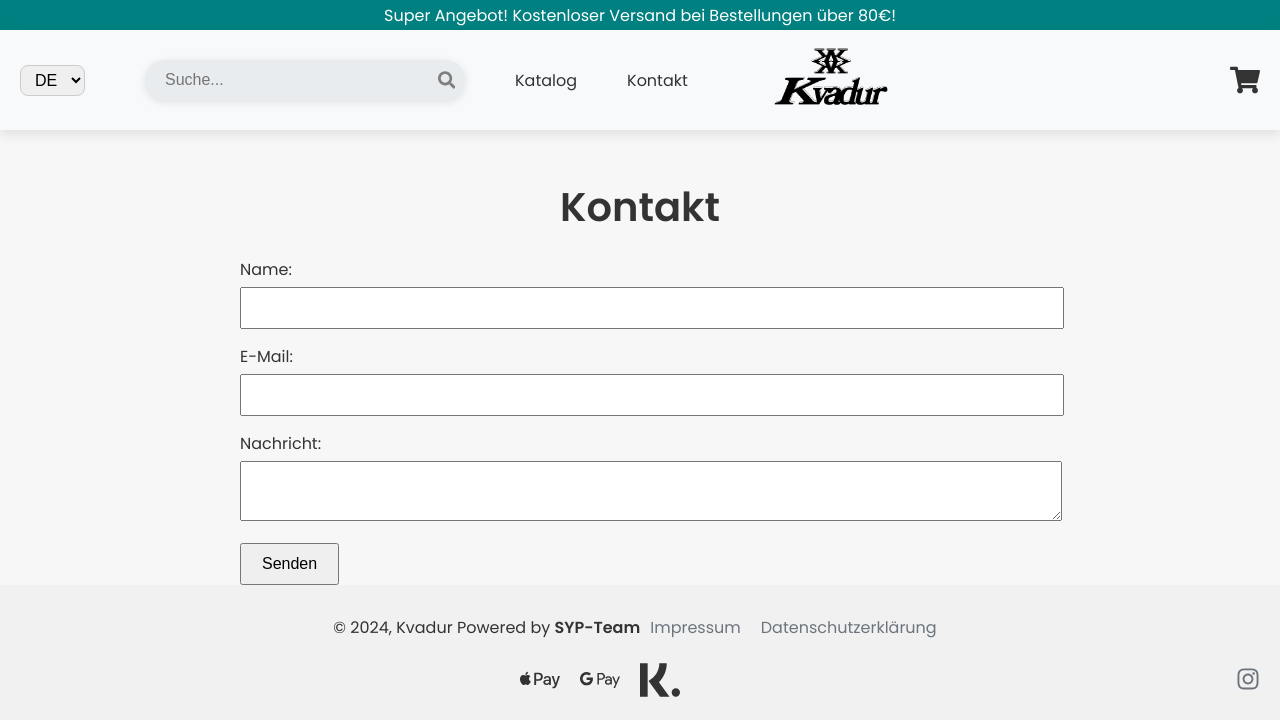
it: Kontaktformular - Validierung und Absenden › sollte das Kontaktformular validieren und erfolgreich absenden
This screenshot has width=1280, height=720.
# Versuch, das Formular ohne Eingaben abzusenden
Submit the form, box [240,257,1040,585]
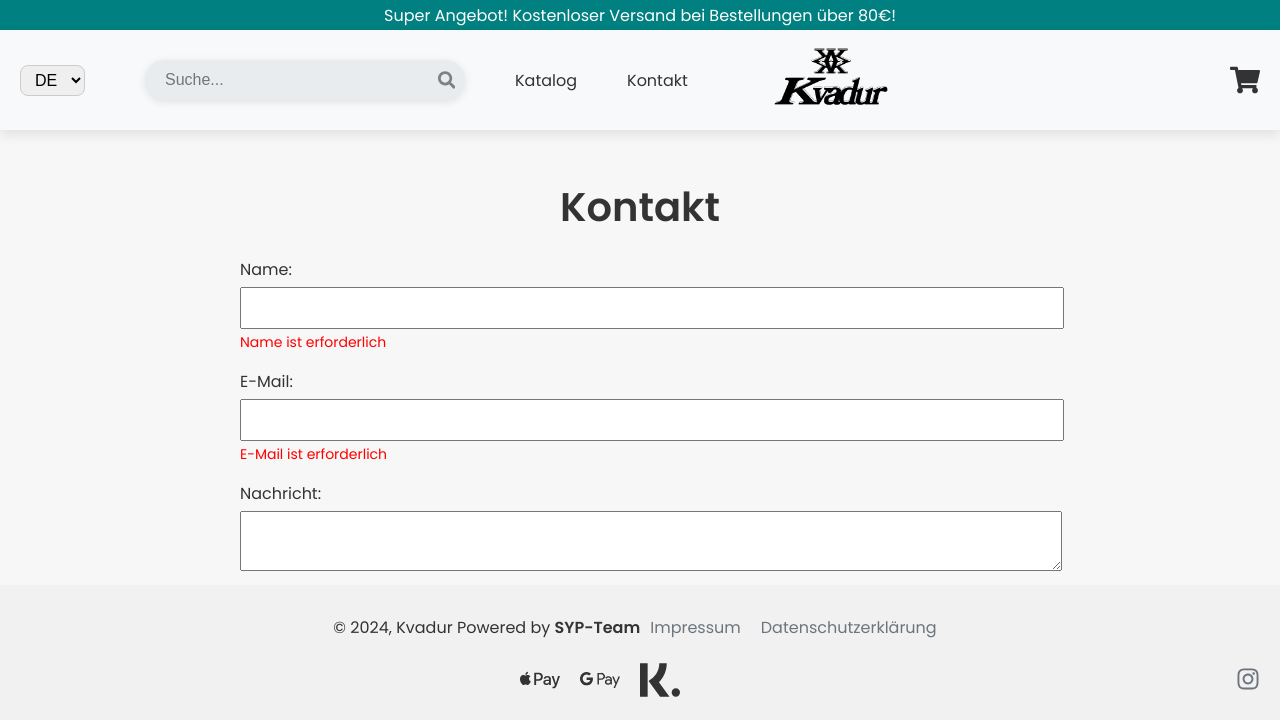
Expected: the number of elements with class "error-message" is at least 1
# Fülle das Formular korrekt aus
Type "Max Mustermann" into the field named "name". click: (652, 308)
box: [240,287,1064,329]
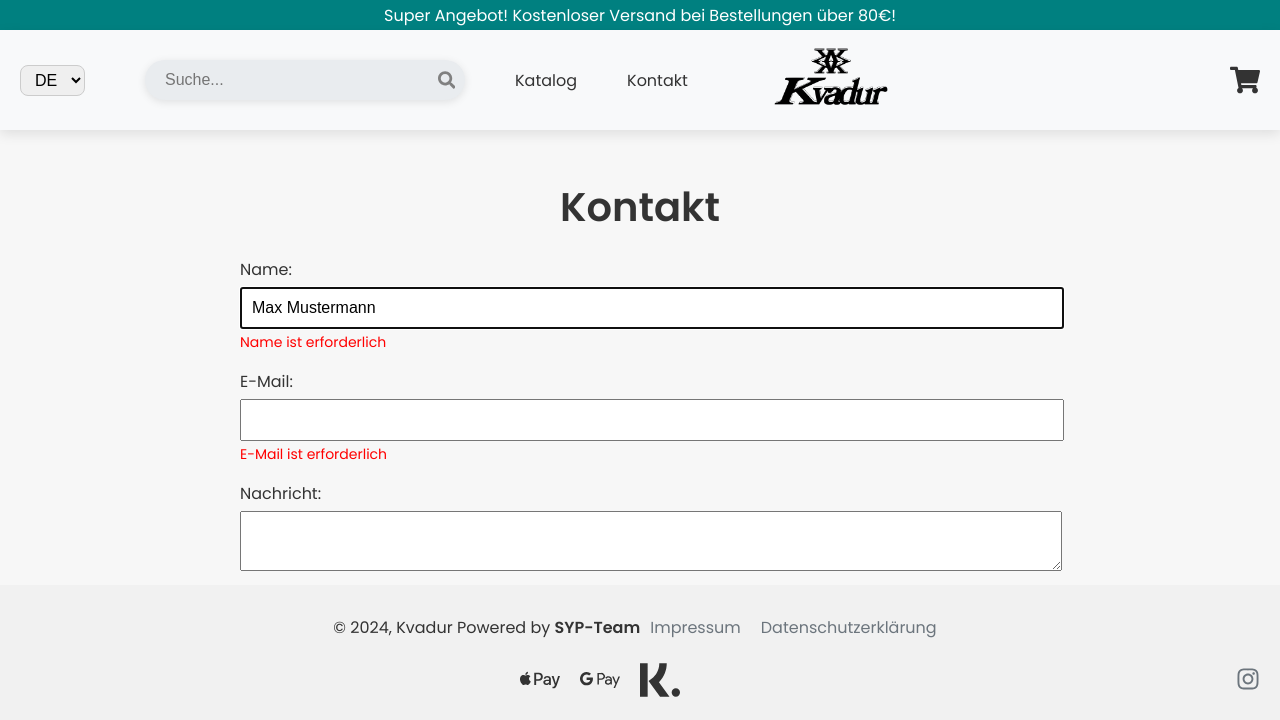
Type "max.mustermann@example.com" into the field named "email". click: (652, 420)
box: [240,399,1064,441]
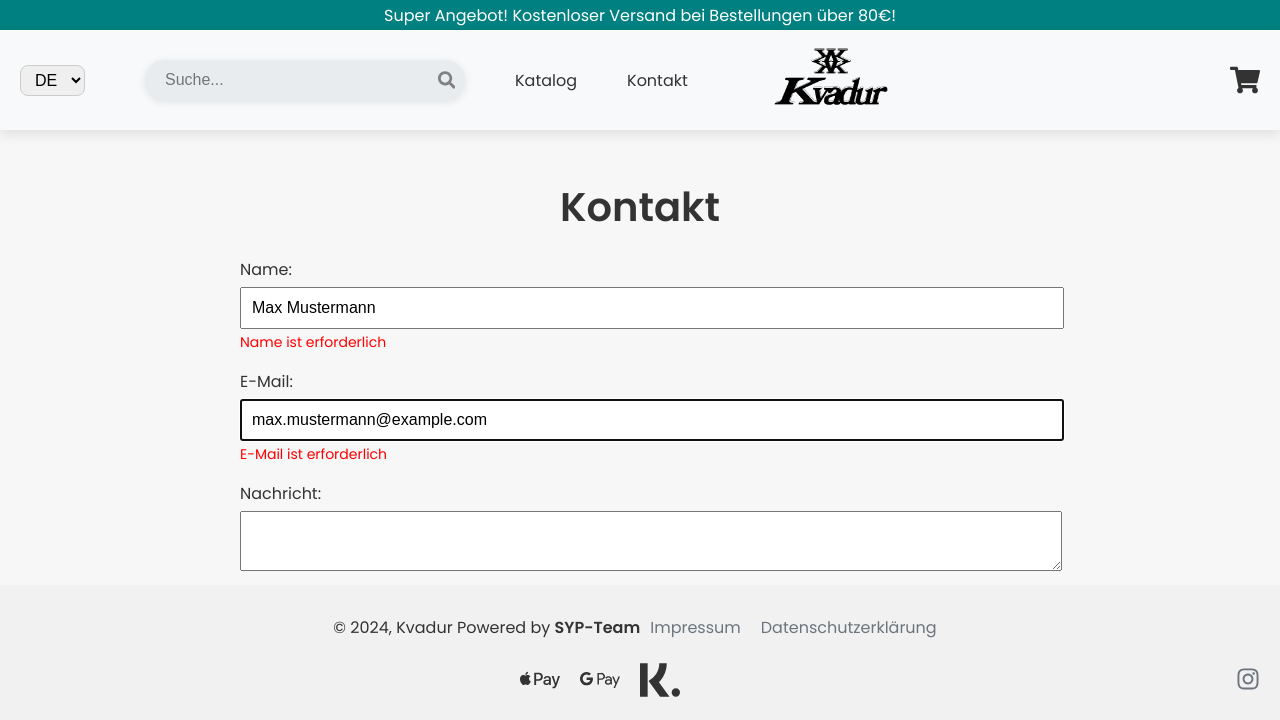
Type "Dies ist eine Testnachricht." into the text box named "message". click: (651, 541)
box: [240,511,1062,571]
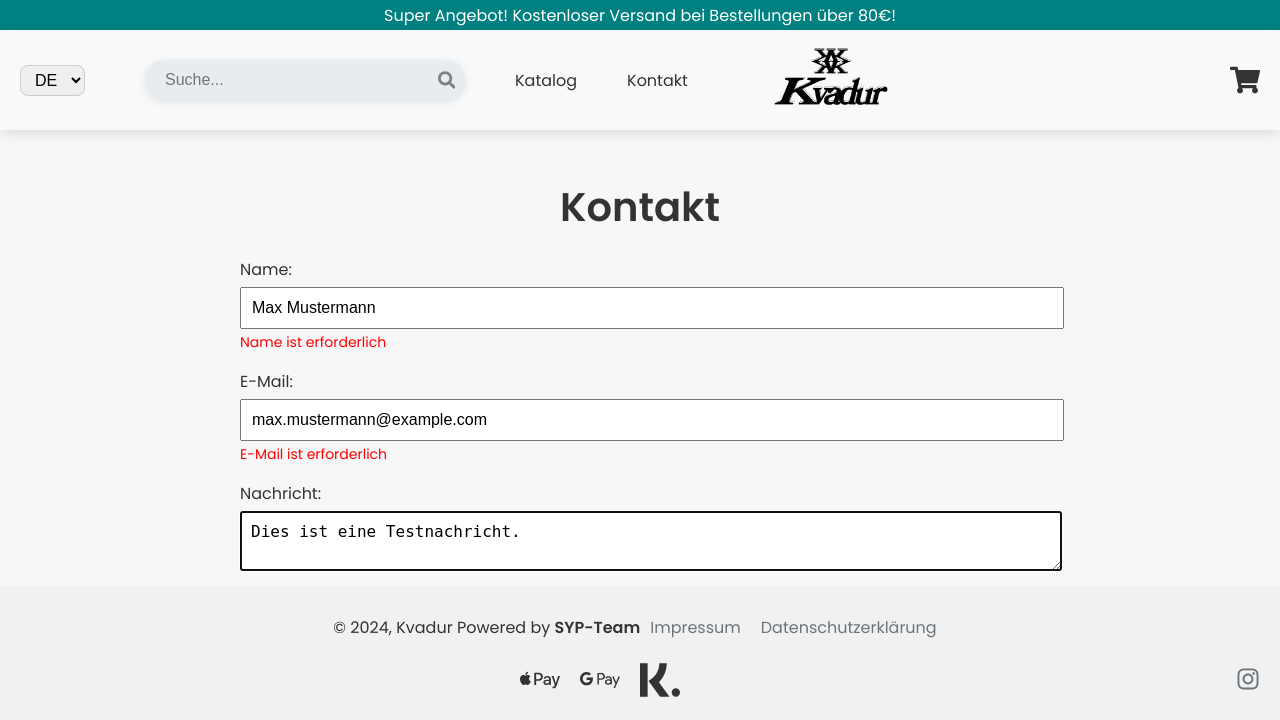
# Sende das Formular erneut ab
Submit the form, box [240,257,1040,660]
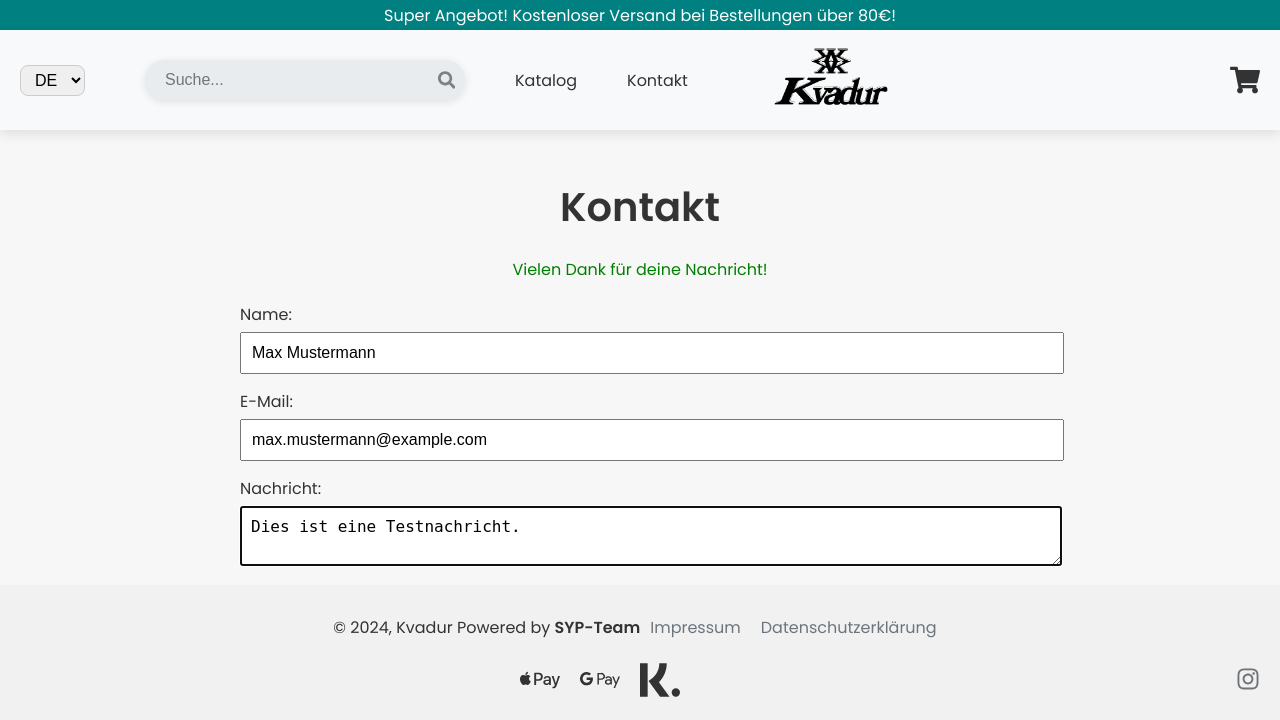
Expected: the text "Vielen Dank für deine Nachricht!" is shown, [512,258,768,281]
Expected: the text with class "success-message" reads "Vielen Dank für deine Nachricht!", [512,258,767,281]
